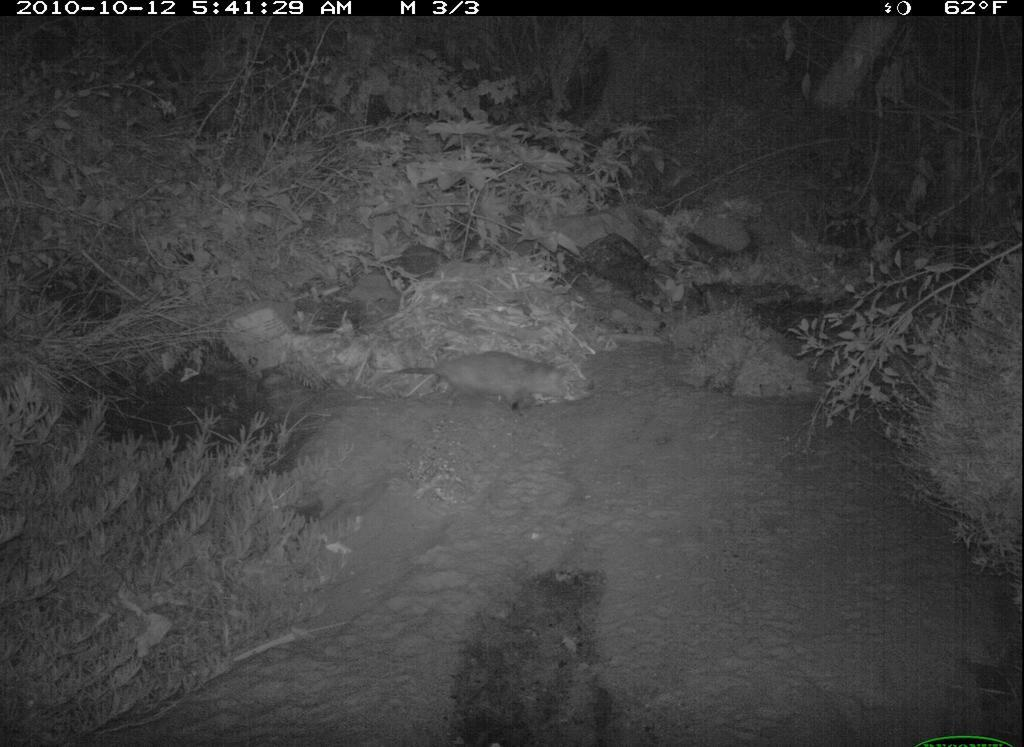opossum: (363, 349, 602, 433)
